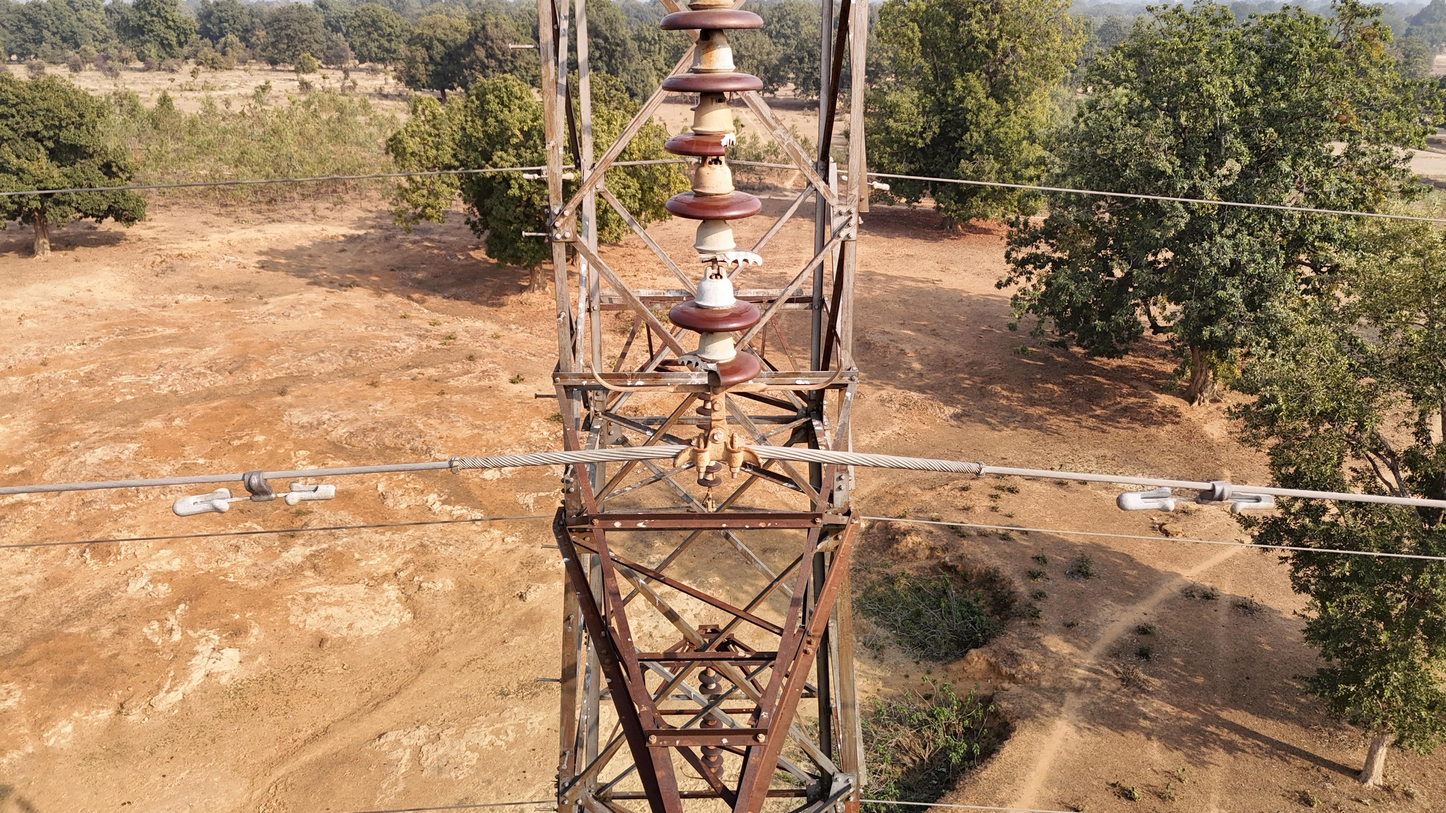broken_insulator: (676, 233, 770, 282), (674, 348, 762, 387), (664, 130, 754, 159)
